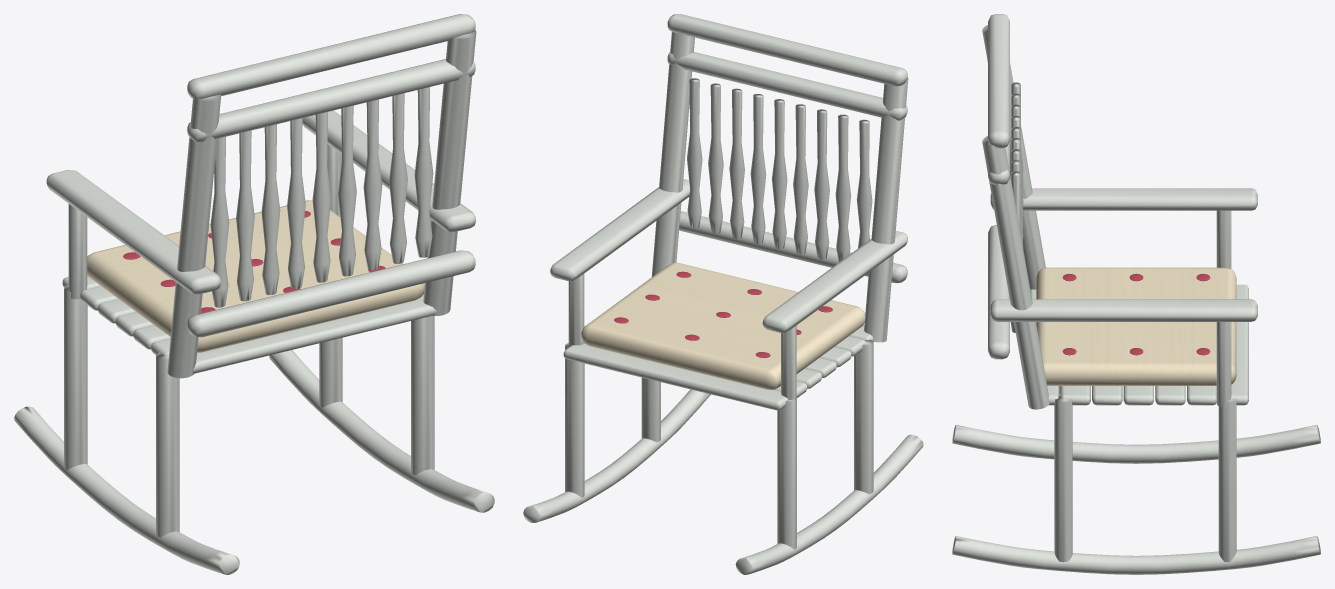
Rendered from PorchRockingChair.gltf.
3 renders of one model, left to right at view 1: azimuth 30°, elevation 25°; view 2: azimuth 150°, elevation 25°; view 3: azimuth 270°, elevation 25°, orthographic. The views are drawn at different scales.
Visible parts, largest first — view 1: PorchRockingChair__Body; view 2: PorchRockingChair__Body; view 3: PorchRockingChair__Body.
Boxes of the visible parts, x1,y1,x2,y2 form: PorchRockingChair__Body: (14,14,494,574); PorchRockingChair__Body: (523,14,923,574); PorchRockingChair__Body: (952,14,1320,574).
Bounding box in the file's own units: 0.672 × 1.12 × 0.84.
1 material, 1 textured.
